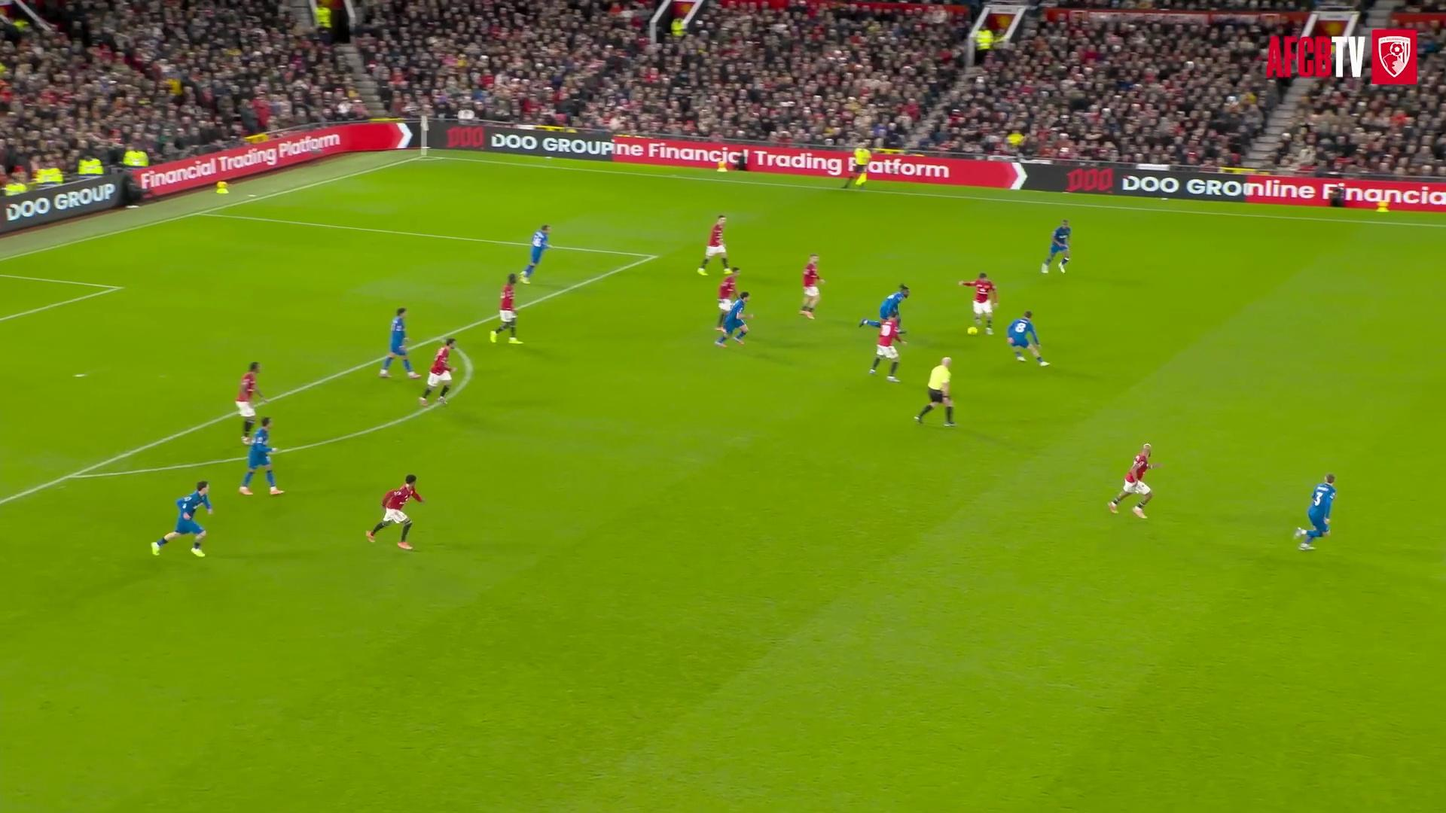football: (967, 326, 978, 334)
player: (151, 480, 212, 557), (366, 475, 423, 550), (1109, 444, 1158, 518), (239, 417, 283, 495), (1295, 473, 1335, 550), (380, 307, 419, 378), (419, 338, 455, 406), (236, 361, 265, 443), (959, 273, 997, 334), (1007, 312, 1048, 366), (490, 273, 521, 343), (860, 285, 909, 327), (870, 318, 901, 382), (715, 291, 749, 346), (697, 215, 728, 275), (521, 224, 549, 283), (1042, 220, 1071, 273), (801, 254, 824, 318), (716, 267, 739, 331)
referee: (916, 357, 955, 425), (843, 144, 871, 188)
